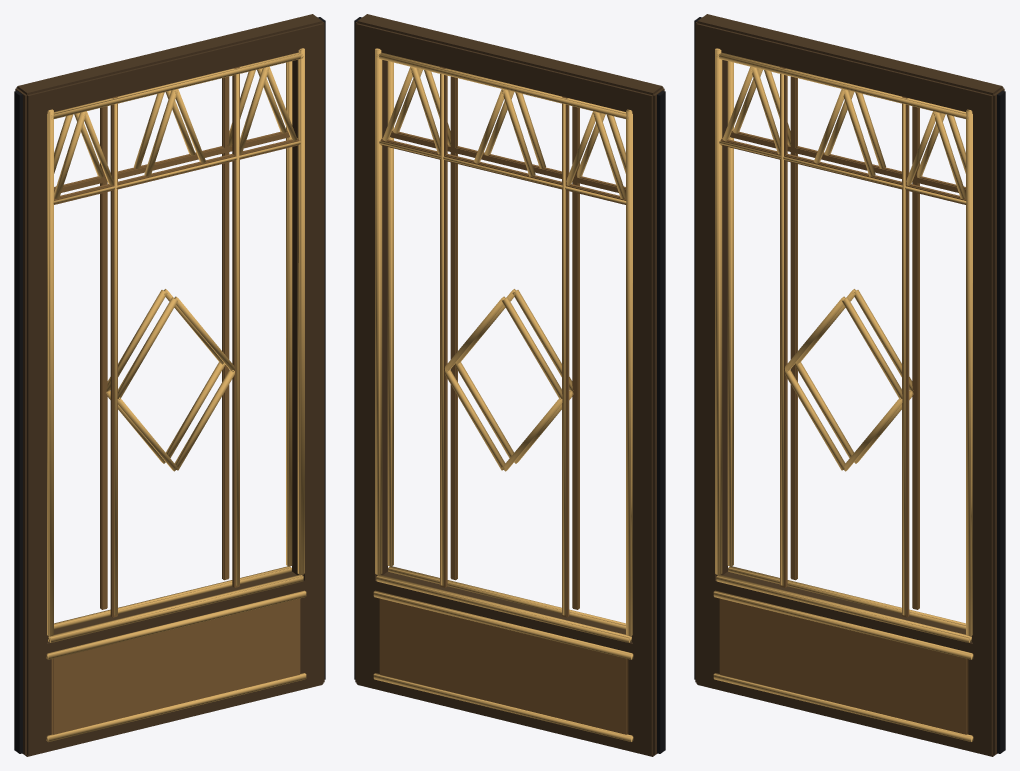
File: elevator_door_leaf.glb
3 renders of one model, left to right at view 1: azimuth 30°, elevation 25°; view 2: azimuth 150°, elevation 25°; view 3: azimuth 330°, elevation 25°, orthographic.
Visible parts, largest first — view 1: elevator_door_leaf_bronze_dk, elevator_door_leaf_brass, elevator_door_leaf_bronze, elevator_door_leaf_rubber; view 2: elevator_door_leaf_bronze_dk, elevator_door_leaf_brass, elevator_door_leaf_bronze, elevator_door_leaf_rubber; view 3: elevator_door_leaf_bronze_dk, elevator_door_leaf_brass, elevator_door_leaf_bronze, elevator_door_leaf_rubber.
Boxes of the visible parts, left/top/right/bottom form: elevator_door_leaf_bronze_dk: left=15, top=14, right=324, bottom=756; elevator_door_leaf_brass: left=46, top=48, right=306, bottom=742; elevator_door_leaf_bronze: left=51, top=66, right=300, bottom=734; elevator_door_leaf_rubber: left=14, top=17, right=325, bottom=753; elevator_door_leaf_bronze_dk: left=355, top=14, right=664, bottom=756; elevator_door_leaf_brass: left=373, top=48, right=633, bottom=742; elevator_door_leaf_bronze: left=379, top=66, right=628, bottom=734; elevator_door_leaf_rubber: left=354, top=17, right=665, bottom=753; elevator_door_leaf_bronze_dk: left=695, top=14, right=1004, bottom=756; elevator_door_leaf_brass: left=713, top=48, right=973, bottom=742; elevator_door_leaf_bronze: left=719, top=66, right=968, bottom=734; elevator_door_leaf_rubber: left=694, top=17, right=1005, bottom=753.
Size of the model in its own units: 1.21 by 2.5 by 0.102.
